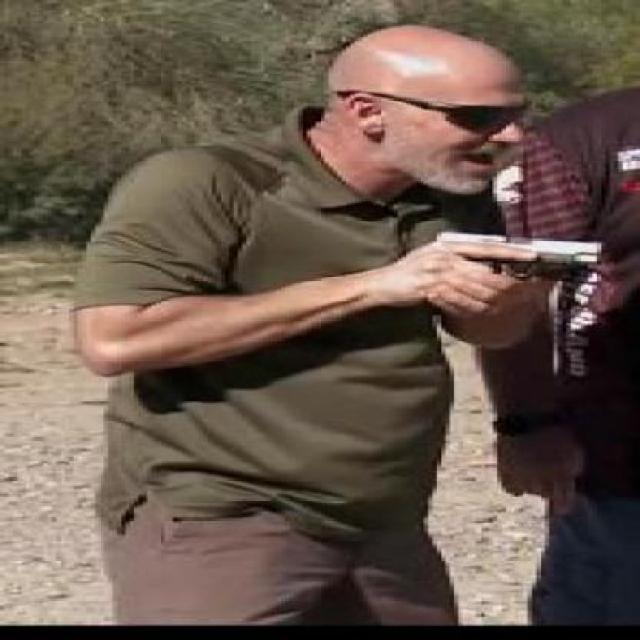gun: (414, 228, 600, 310)
